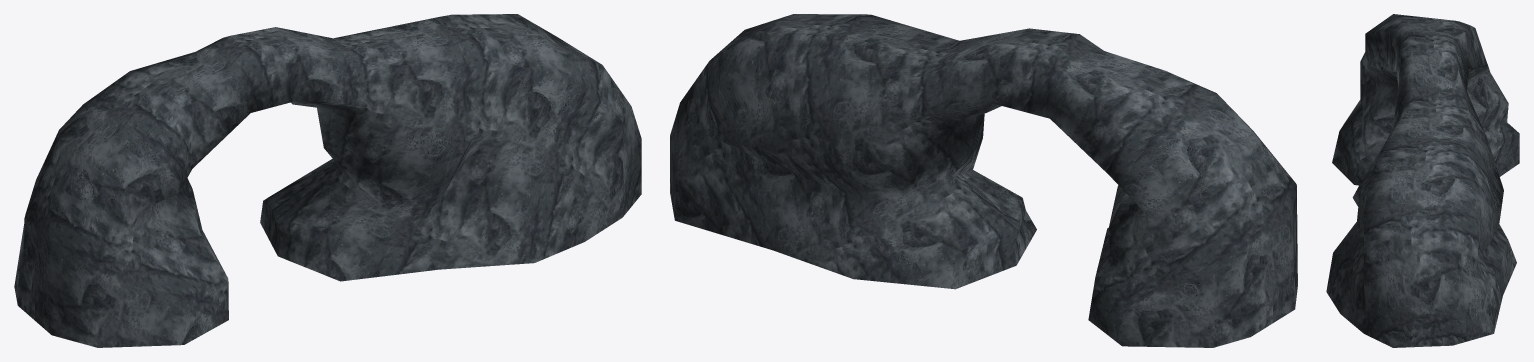
The model's file is environment_stone_shanti_004_c.FBX.
3 views of the same model, side by side, from view 1: azimuth 30°, elevation 25°; view 2: azimuth 150°, elevation 25°; view 3: azimuth 270°, elevation 25° (orthographic). The views are drawn at different scales.
Visible parts, largest first — view 1: environment_stone_shanti_004_c; view 2: environment_stone_shanti_004_c; view 3: environment_stone_shanti_004_c.
Part boxes in pixels (bbox=[...]): environment_stone_shanti_004_c: bbox=[14, 14, 641, 347]; environment_stone_shanti_004_c: bbox=[670, 14, 1297, 347]; environment_stone_shanti_004_c: bbox=[1326, 14, 1519, 347].
Size of the model in its own units: 1038 by 383 by 388.
Materials: 1 (1 with a texture image).
